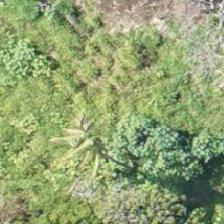coconut_tree: (49, 93, 139, 183)
